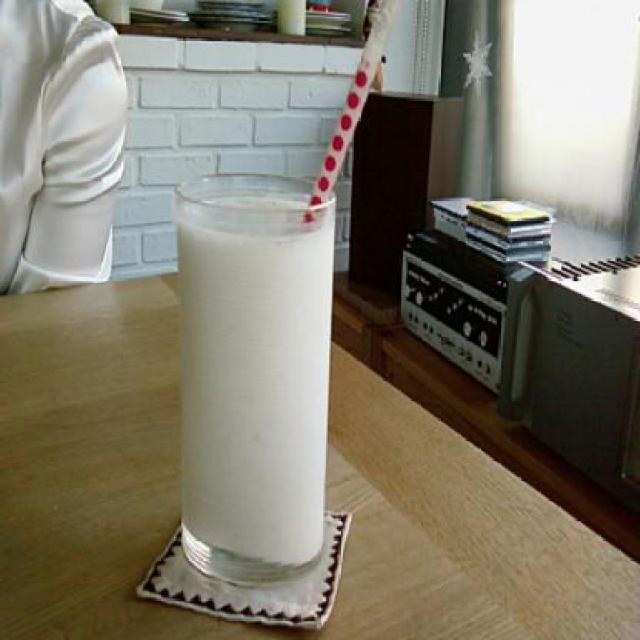Milk: (148, 144, 346, 602)
